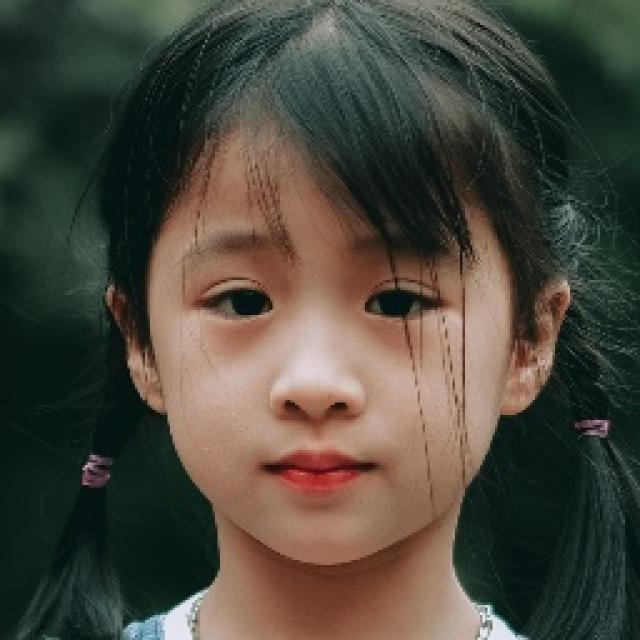earlobe: (500, 277, 571, 416), (104, 284, 166, 415)
